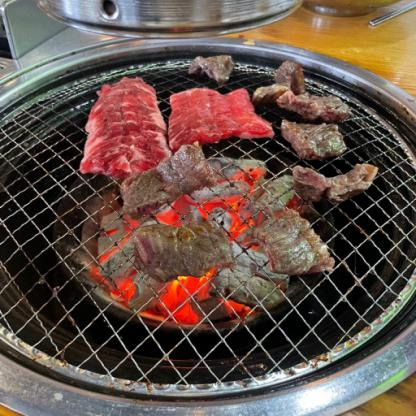Carne: (96, 214, 236, 286), (123, 140, 223, 214), (255, 209, 328, 272), (294, 153, 378, 204), (285, 119, 346, 159), (275, 92, 351, 123), (182, 53, 232, 82)
